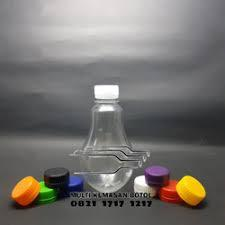BIODEGRADABLE: (71, 74, 144, 204)
